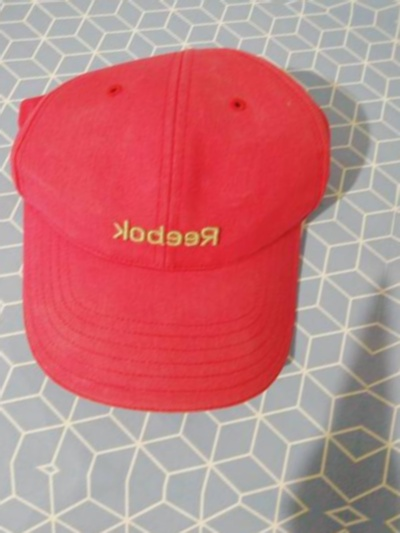Hat: (0, 0, 375, 441), (0, 521, 291, 533)
